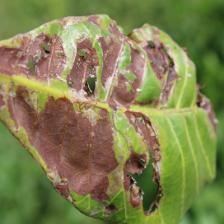leaf miner: (0, 76, 171, 220), (60, 28, 191, 113), (0, 25, 72, 90)
